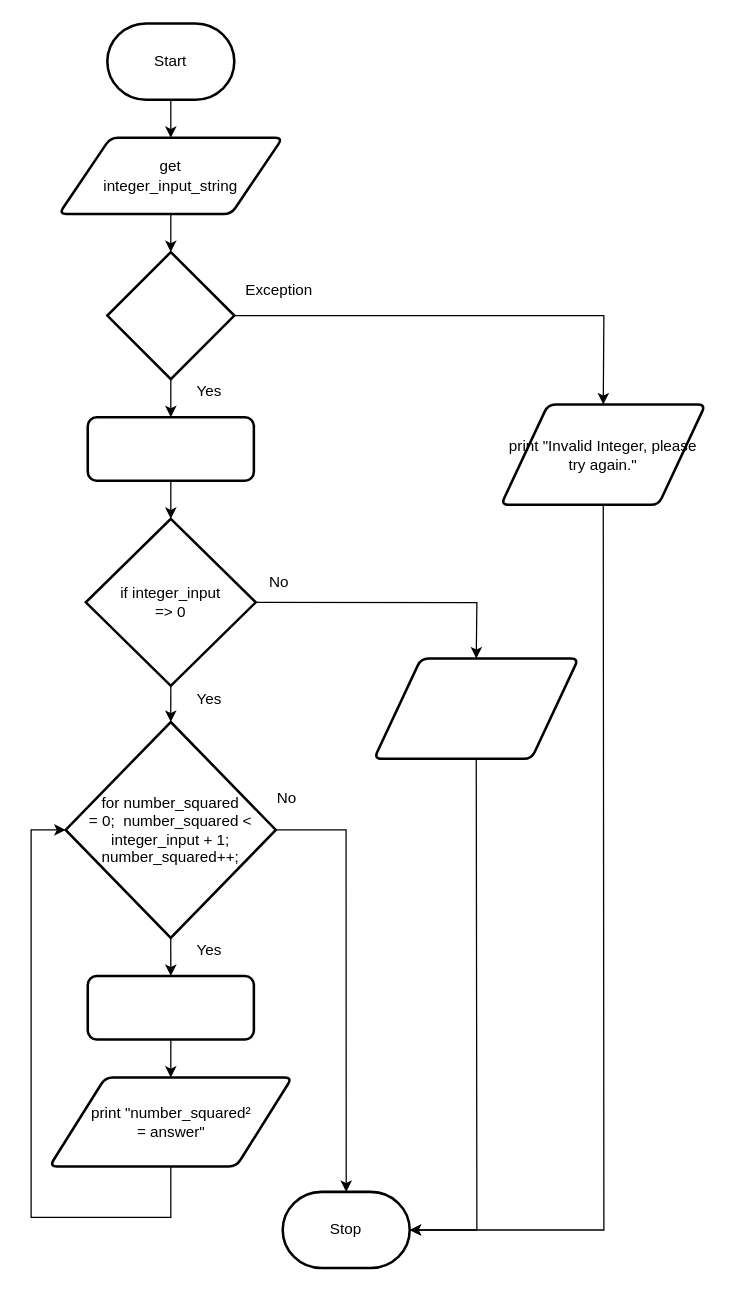
This 729x1290 diagram has some shape labels left out. Here are the shapes that lost their labels. From the top down, the centre of each, then its label:
(170,315): Try
(170,448): convert integer_input_string to int
(475,708): print "Invalid, only positive integers accepted."
(170,1007): answer = number_squared * number_squared
